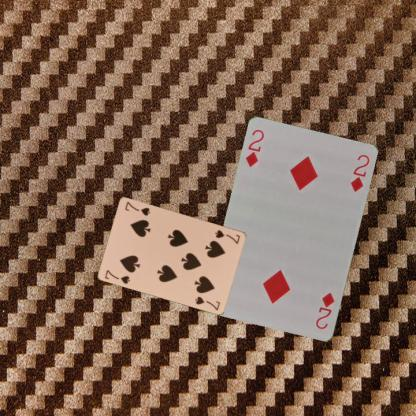2d: (243, 127, 266, 169), (313, 290, 336, 331)
7s: (212, 227, 242, 245), (102, 267, 132, 285)
